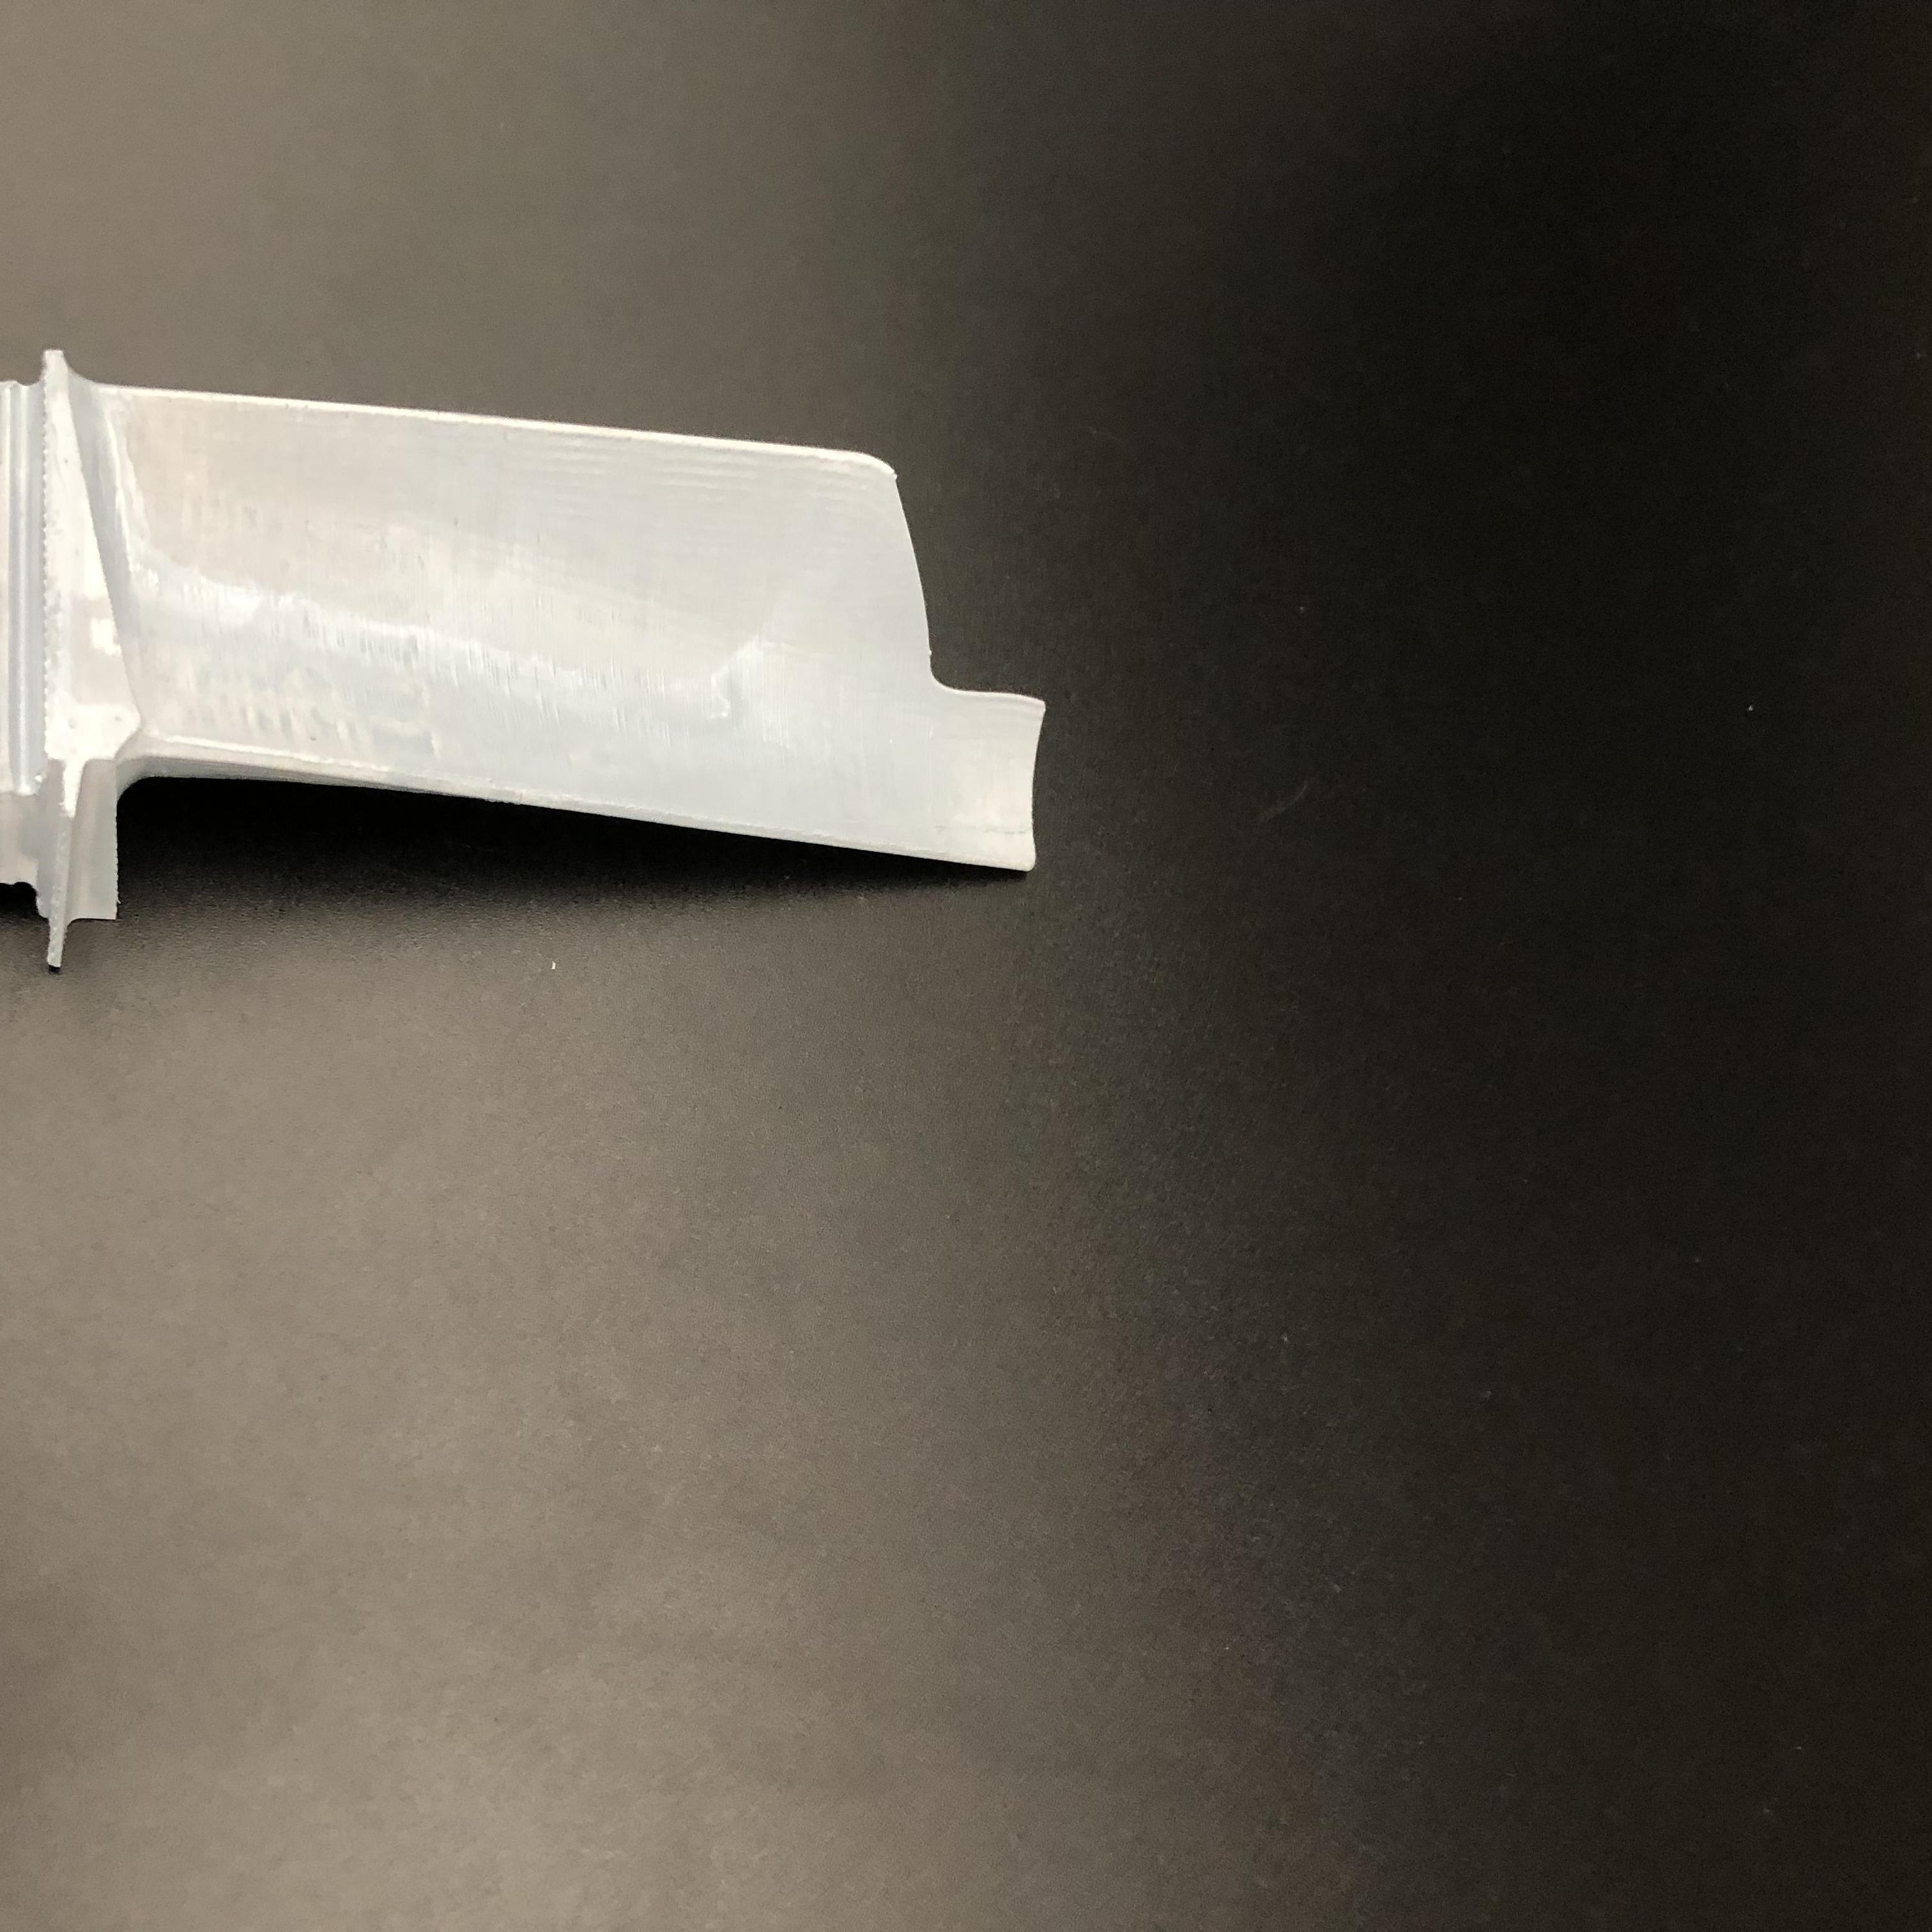fracture: (883, 469, 1054, 706)
